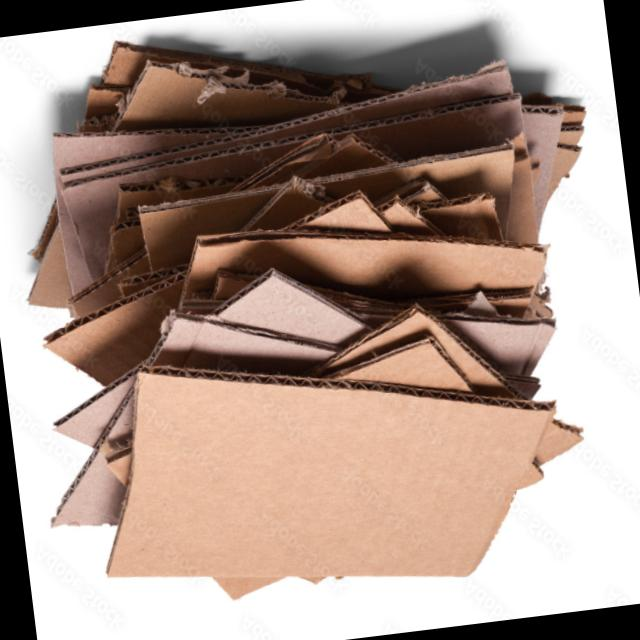Kardus: (0, 0, 639, 626), (79, 312, 598, 622)
